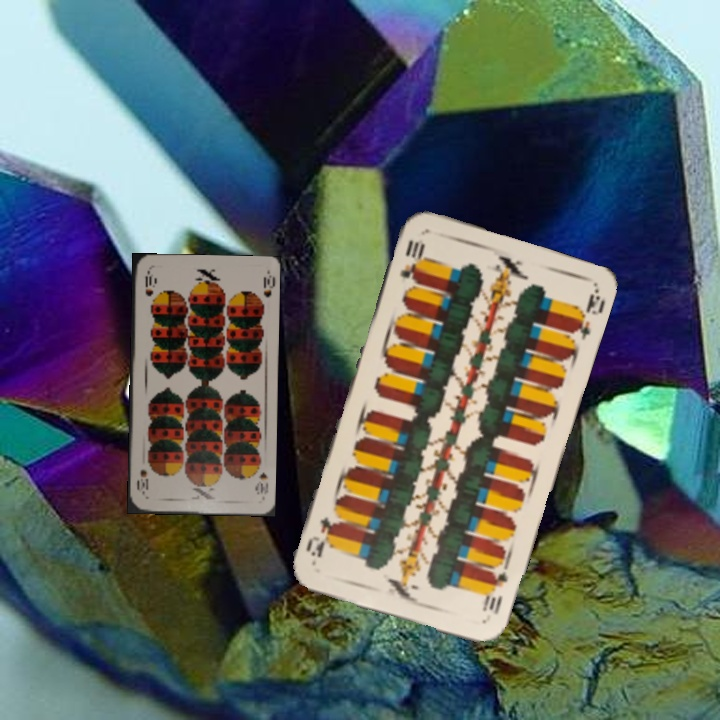E10: (395, 236, 428, 292), (478, 567, 510, 618)
S10: (251, 468, 271, 497), (141, 268, 154, 298)
